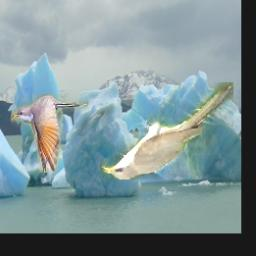Cuckoo: (100, 83, 233, 180), (12, 94, 89, 173)
